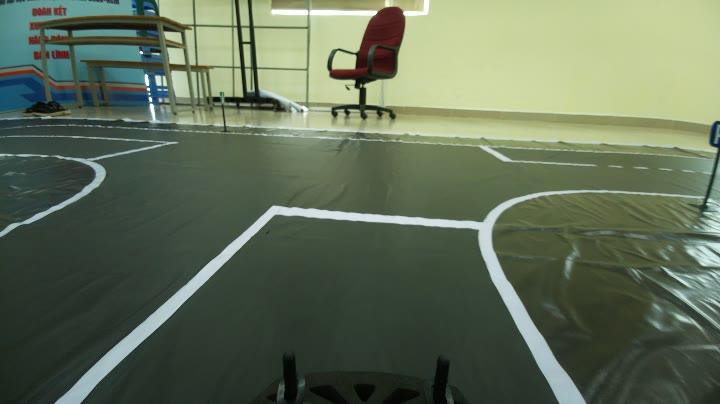parking: (705, 114, 720, 152)
